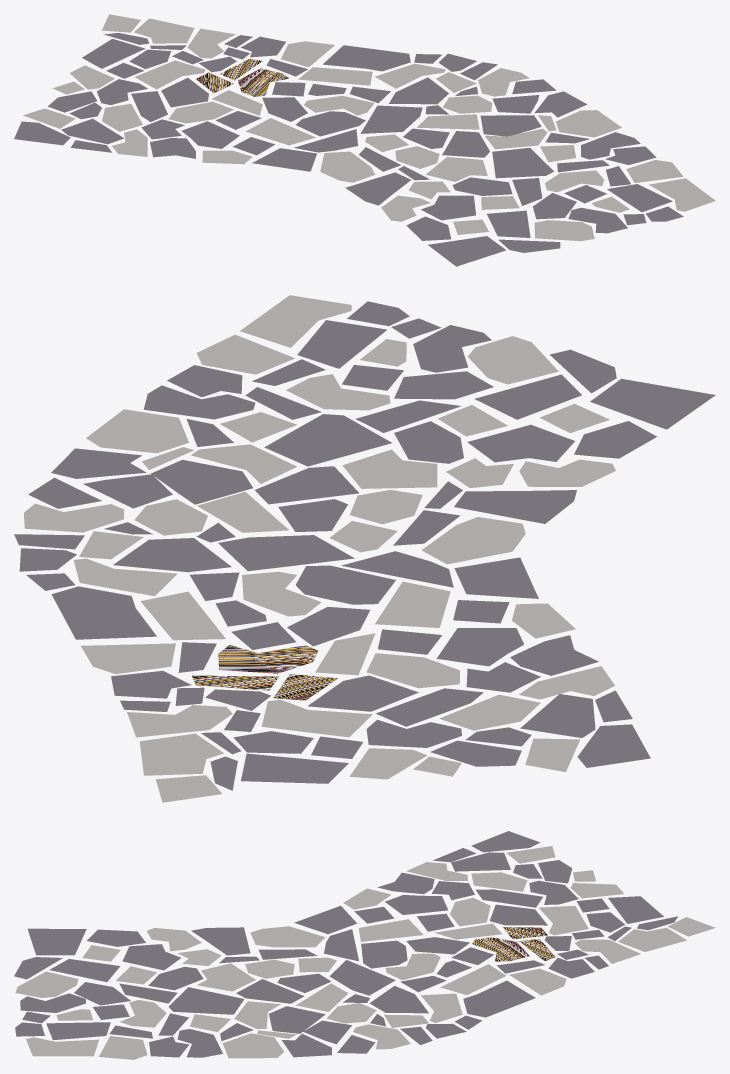
Rendered from road_smooth_left.fbx.
The picture shows the model from 3 angles, top to bottom: view 1: azimuth 30°, elevation 25°; view 2: azimuth 150°, elevation 25°; view 3: azimuth 270°, elevation 25°; orthographic projection. The views are drawn at different scales.
Parts seen in each view (by area): view 1: road_smooth_left; view 2: road_smooth_left; view 3: road_smooth_left.
Part boxes in pixels (x1,y1,x2,y2): road_smooth_left: [14, 14, 715, 266]; road_smooth_left: [14, 295, 715, 802]; road_smooth_left: [14, 831, 715, 1059].
Size of the model in its own units: 345 by 0.8492 by 448.
